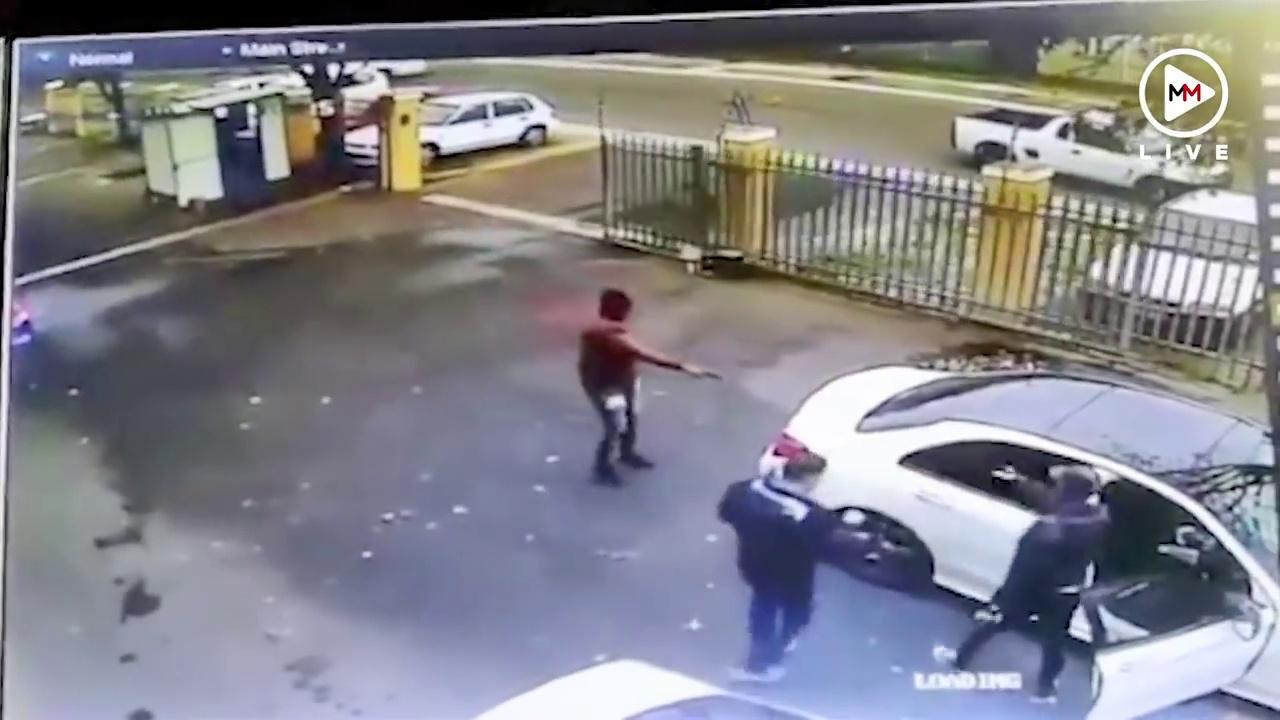weapon: (690, 360, 726, 386)
